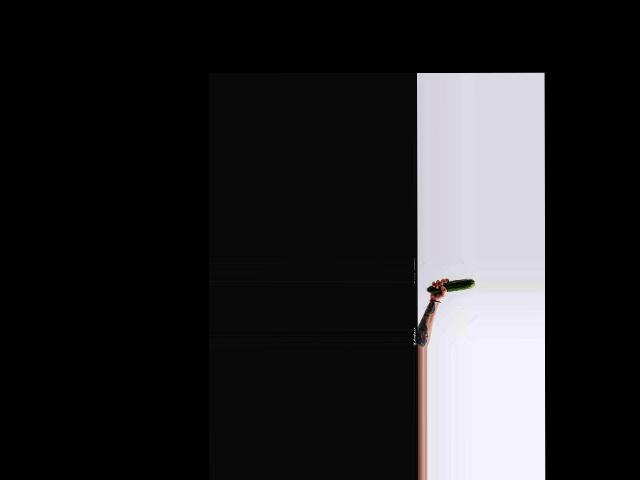cucumber: (427, 278, 475, 292)
